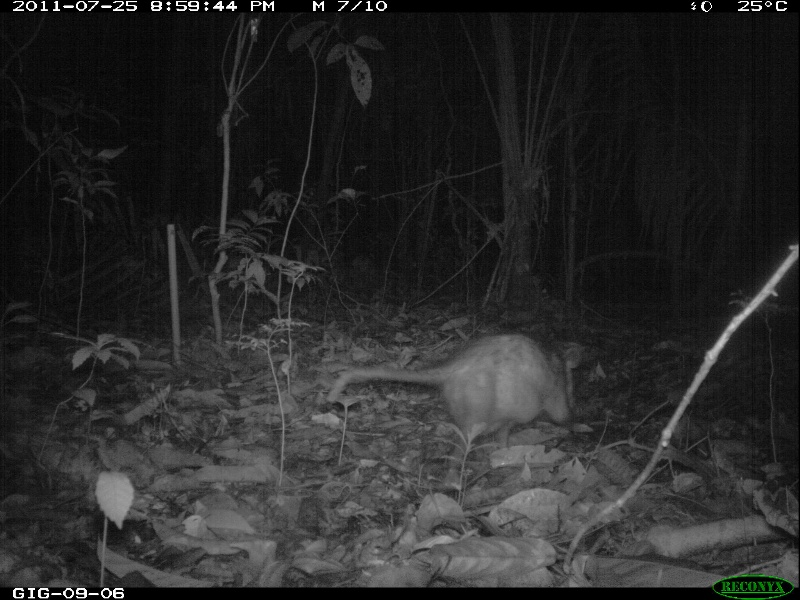opossum: (326, 329, 581, 454)
